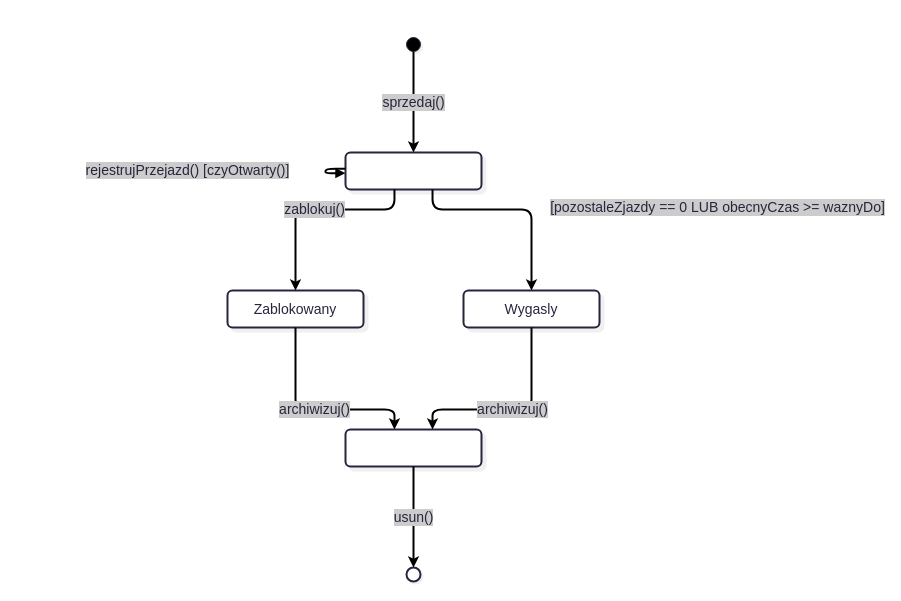
Image size: 901x601. Some labels were removed from this diagram. The centre of each missing label's shape, as x and y in pixels:
Aktywny: the point at 415,172
Zarchiwizowany: the point at 415,449
